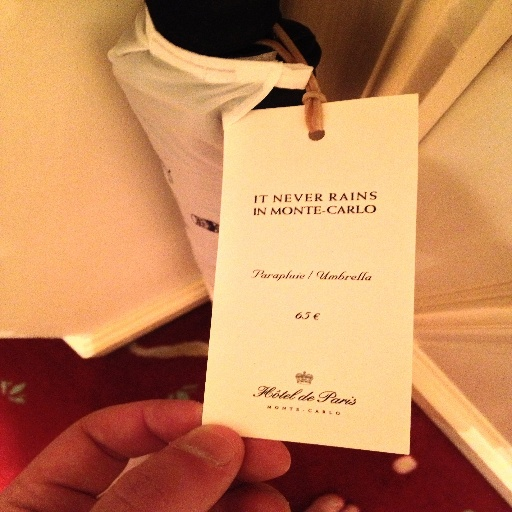hand: (6, 390, 244, 502)
